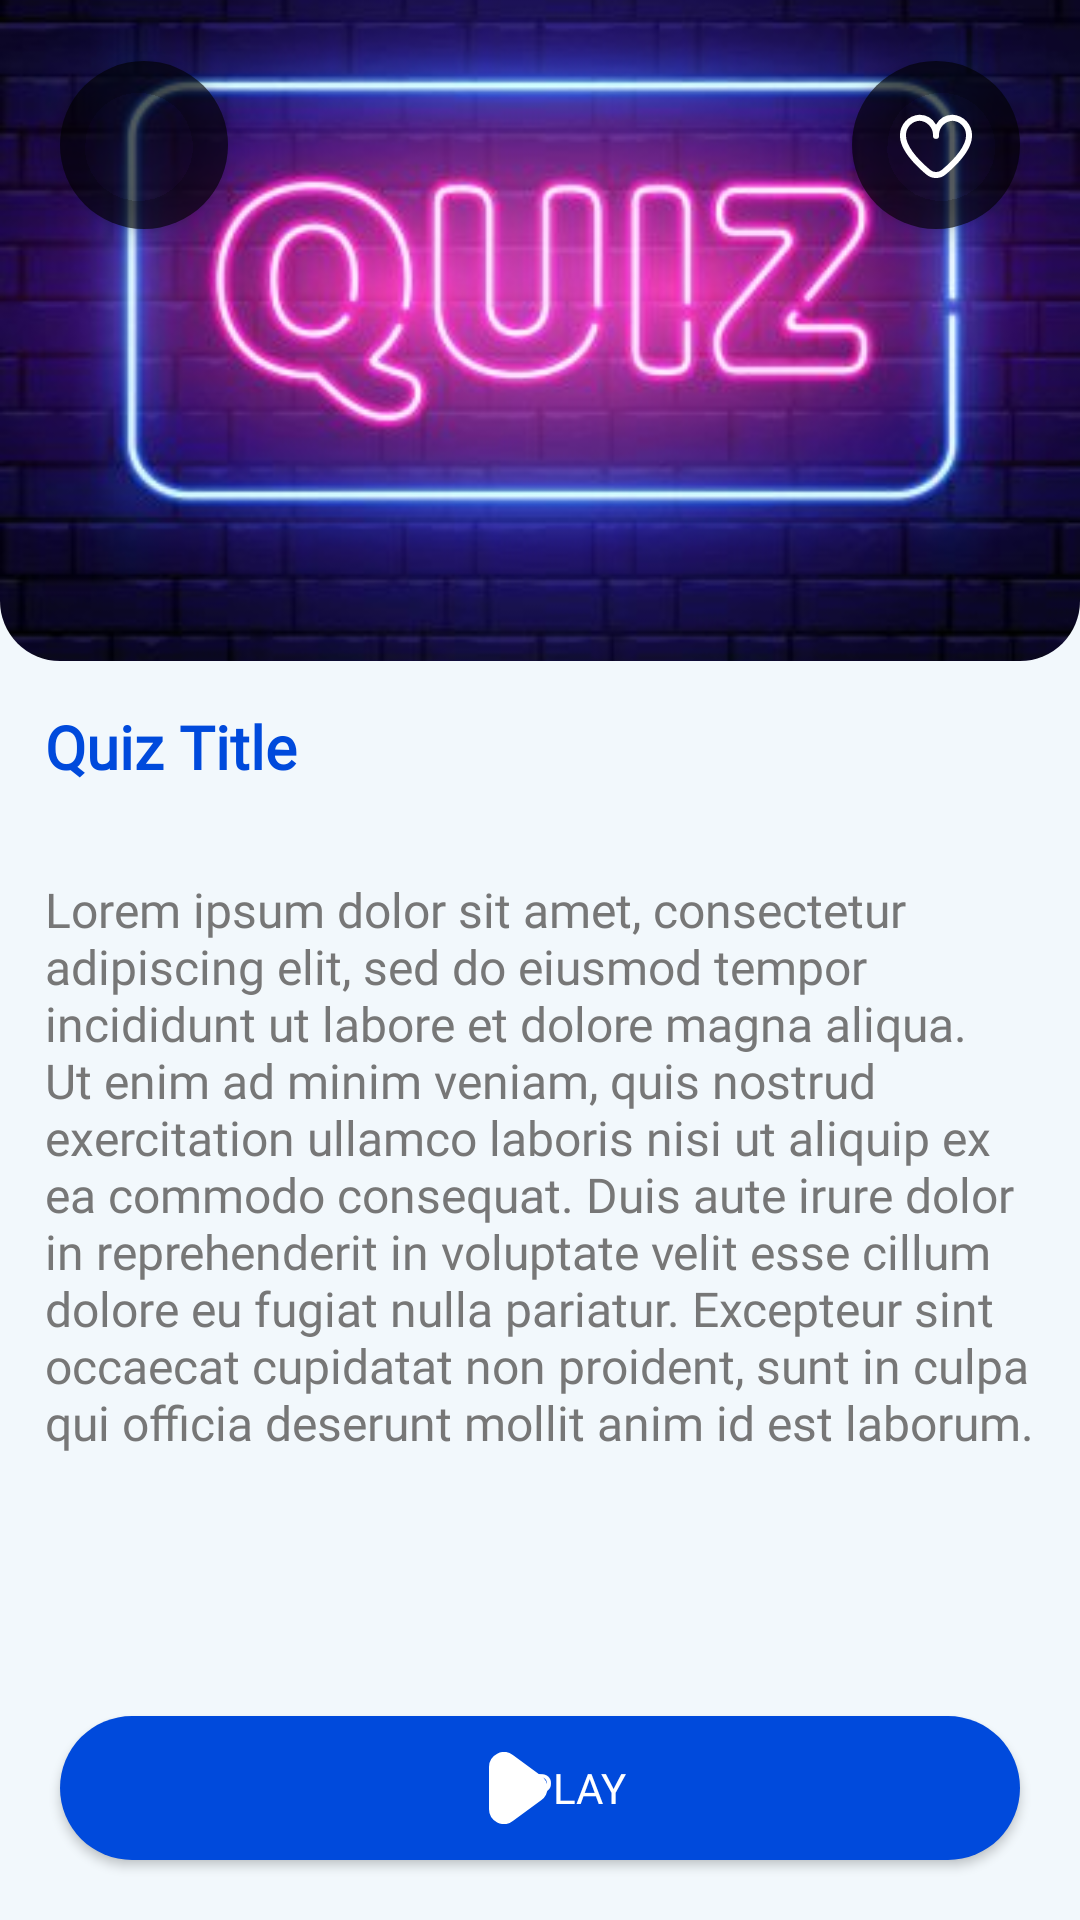

Screen size 1080w x 1920h. Icon name, then its center in pixels as [x,y]:
heart: [936,145]
